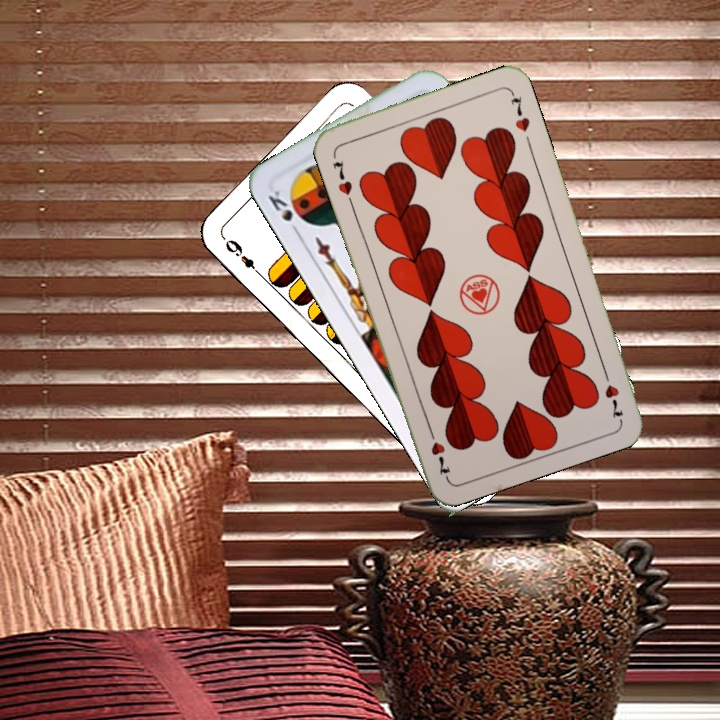E9: (220, 235, 266, 280)
H7: (599, 364, 626, 422), (328, 156, 355, 198)
SK: (264, 186, 303, 239)
